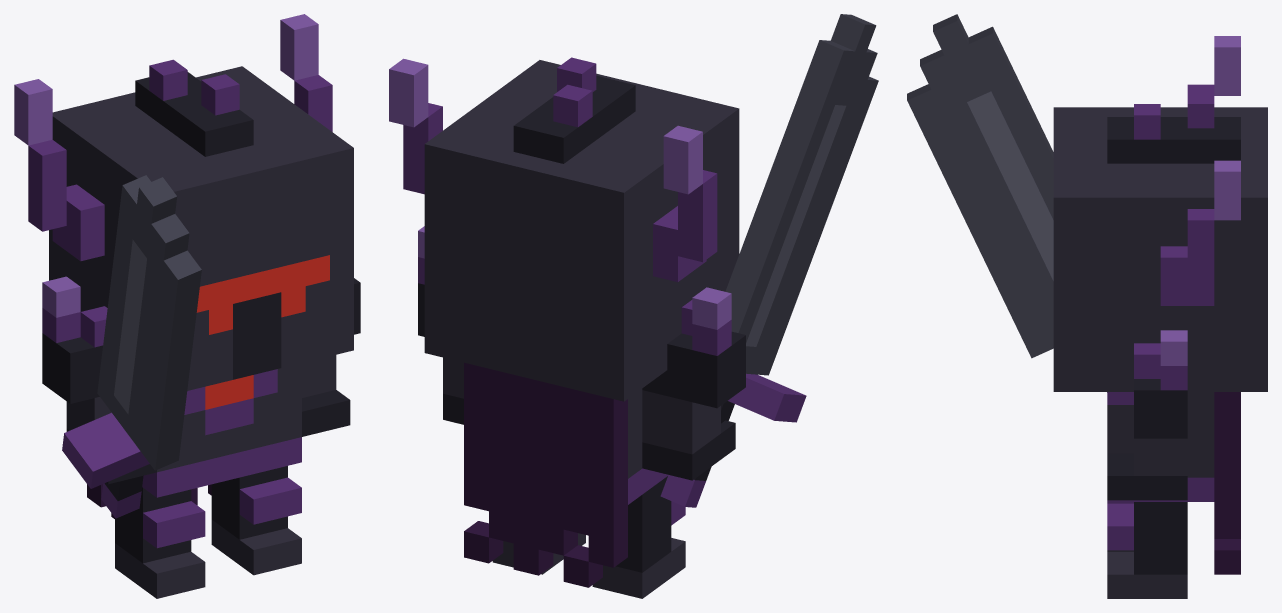
The model's file is ot-voxel.glb.
3 views of the same model, side by side, from view 1: azimuth 30°, elevation 25°; view 2: azimuth 150°, elevation 25°; view 3: azimuth 270°, elevation 25° (orthographic). The views are drawn at different scales.
Visible parts, largest first — view 1: head, weapon, torso, leg_L, arm_R, leg_R, hips, arm_L; view 2: head, cape, weapon, arm_R, leg_R, arm_L, torso, hips; view 3: head, weapon, arm_L, leg_L, cape, torso, hips.
Part boxes in pixels (bbox=[...]): head: bbox=[14, 14, 353, 390]; weapon: bbox=[62, 175, 201, 518]; torso: bbox=[157, 363, 301, 472]; leg_L: bbox=[211, 466, 301, 575]; arm_R: bbox=[42, 276, 156, 484]; leg_R: bbox=[115, 487, 205, 598]; hips: bbox=[142, 437, 301, 497]; arm_L: bbox=[302, 278, 360, 436]; head: bbox=[389, 57, 739, 401]; cape: bbox=[464, 362, 627, 587]; weapon: bbox=[660, 14, 878, 507]; arm_R: bbox=[642, 287, 745, 480]; leg_R: bbox=[592, 476, 685, 598]; arm_L: bbox=[418, 226, 463, 424]; torso: bbox=[628, 389, 642, 478]; hips: bbox=[628, 468, 668, 504]; head: bbox=[1053, 36, 1267, 391]; weapon: bbox=[907, 14, 1107, 392]; arm_L: bbox=[1107, 330, 1187, 500]; leg_L: bbox=[1107, 502, 1187, 598]; cape: bbox=[1214, 392, 1240, 574]; torso: bbox=[1107, 392, 1214, 477]; hips: bbox=[1107, 477, 1214, 501].
Size of the model in its own units: 3.24 by 4.91 by 3.37.
